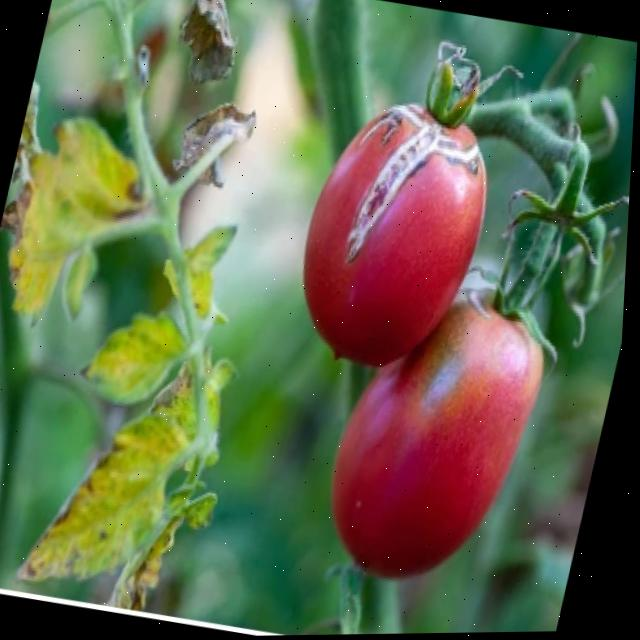damaged: (284, 62, 514, 376)
overripe: (312, 257, 572, 611)
